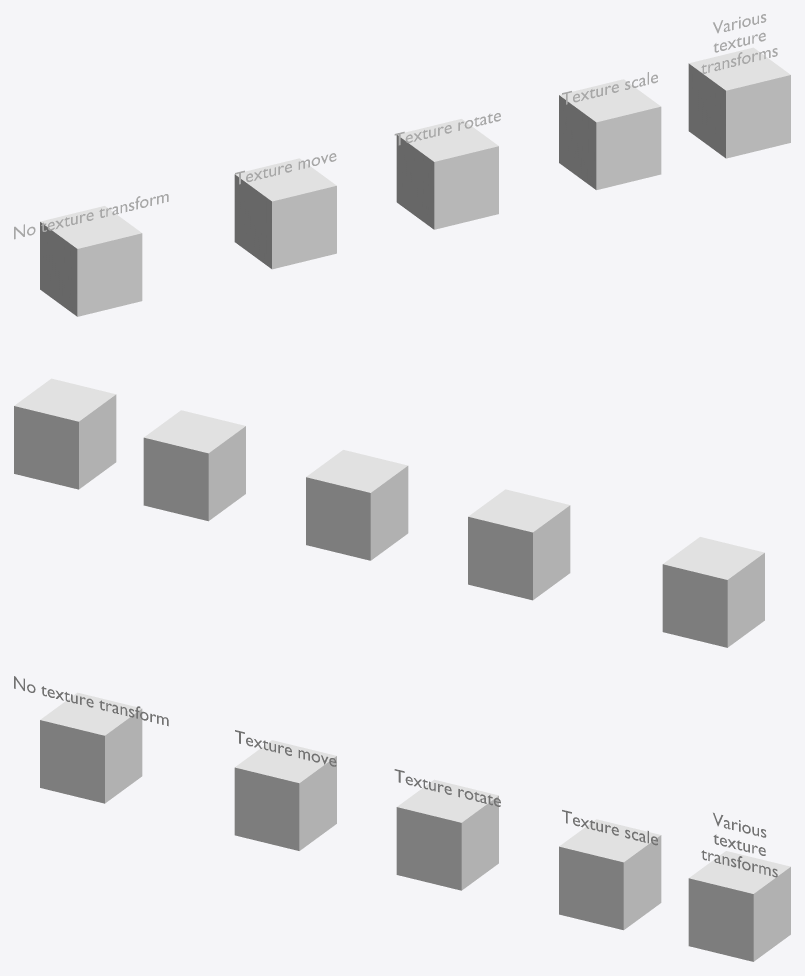
File: texture_transforms_on_base_texture.glb
3 views of the same model, one above another, from view 1: azimuth 30°, elevation 25°; view 2: azimuth 150°, elevation 25°; view 3: azimuth 330°, elevation 25° (orthographic).
Visible parts, largest first — view 1: Cube.004, Cube.002, Cube.003, Cube, Cube.001, Text.004, Text; view 2: Cube, Cube.001, Cube.002, Cube.004, Cube.003; view 3: Cube.002, Cube.004, Cube.001, Cube, Cube.003, Text.004, Text, Text.002.
Boxes of the visible parts, <box> form: Cube.004: <box>688,47,790,158</box>; Cube.002: <box>396,119,498,229</box>; Cube.003: <box>559,79,661,190</box>; Cube: <box>40,206,142,316</box>; Cube.001: <box>234,158,336,269</box>; Text.004: <box>701,14,777,73</box>; Text: <box>14,194,168,239</box>; Cube: <box>662,537,764,647</box>; Cube.001: <box>468,489,570,600</box>; Cube.002: <box>306,450,408,560</box>; Cube.004: <box>14,378,116,489</box>; Cube.003: <box>143,410,245,521</box>; Cube.002: <box>396,779,498,890</box>; Cube.004: <box>688,851,790,961</box>; Cube.001: <box>234,740,336,850</box>; Cube: <box>40,692,142,803</box>; Cube.003: <box>559,819,661,930</box>; Text.004: <box>701,812,777,877</box>; Text: <box>14,676,168,726</box>; Text.002: <box>394,769,500,806</box>.
Size of the model in its own units: 23.55 by 3.57 by 2.
5 materials, 5 textured.
